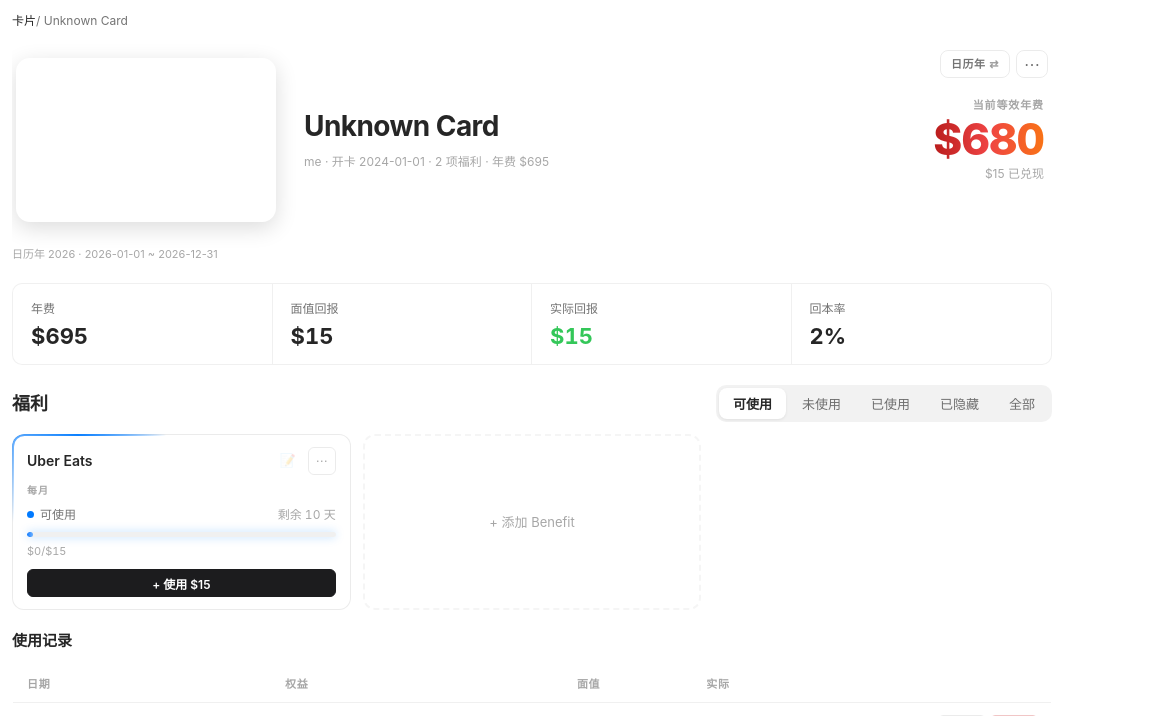
Test: CardDetail filter integration › includes hidden benefits in 全部
Click the button with test id "filter-pill-all" at (1022, 403), box left=995, top=388, right=1049, bottom=419
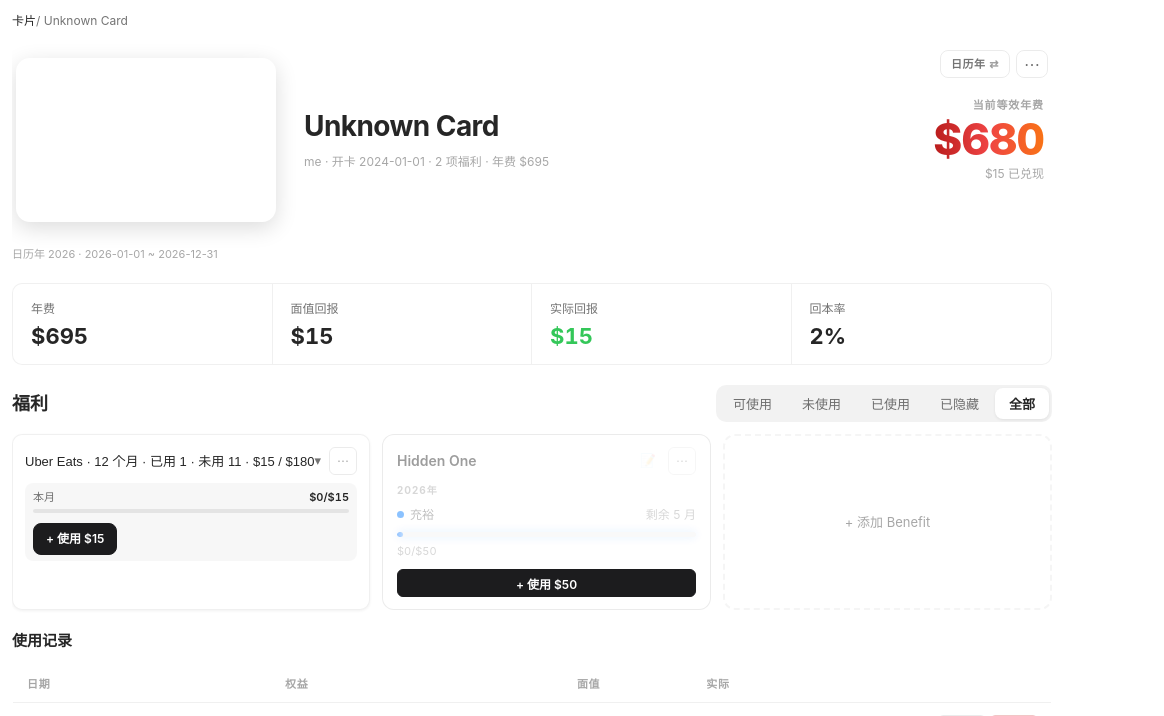
Check: the text "Hidden One" is shown, box left=397, top=452, right=477, bottom=469
